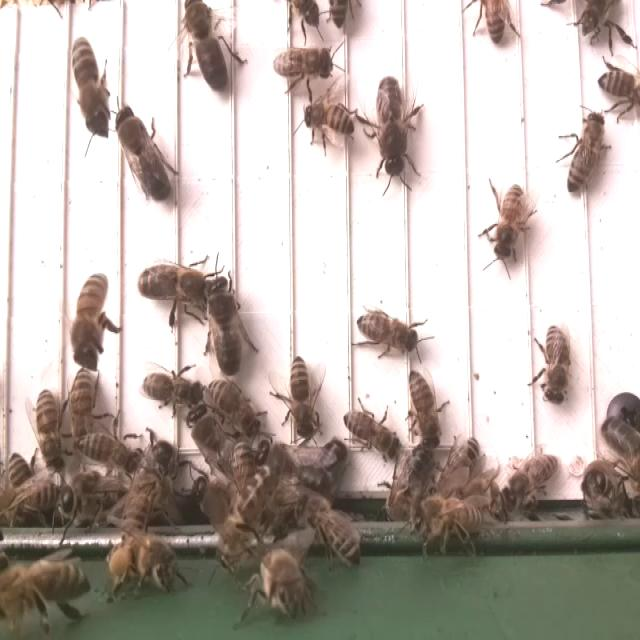Drone: (111, 104, 173, 204), (206, 270, 247, 382), (183, 0, 231, 94), (375, 72, 413, 184), (136, 259, 213, 309)
Worker: (203, 375, 262, 441), (565, 110, 608, 196), (71, 34, 109, 130), (354, 308, 421, 358), (74, 270, 110, 362), (500, 449, 561, 503), (406, 368, 445, 452), (342, 406, 401, 461), (34, 383, 68, 475), (286, 348, 318, 443), (74, 431, 143, 475), (540, 321, 575, 406), (491, 182, 527, 264), (65, 363, 98, 449), (270, 44, 335, 84), (143, 370, 206, 410), (300, 98, 356, 138)
